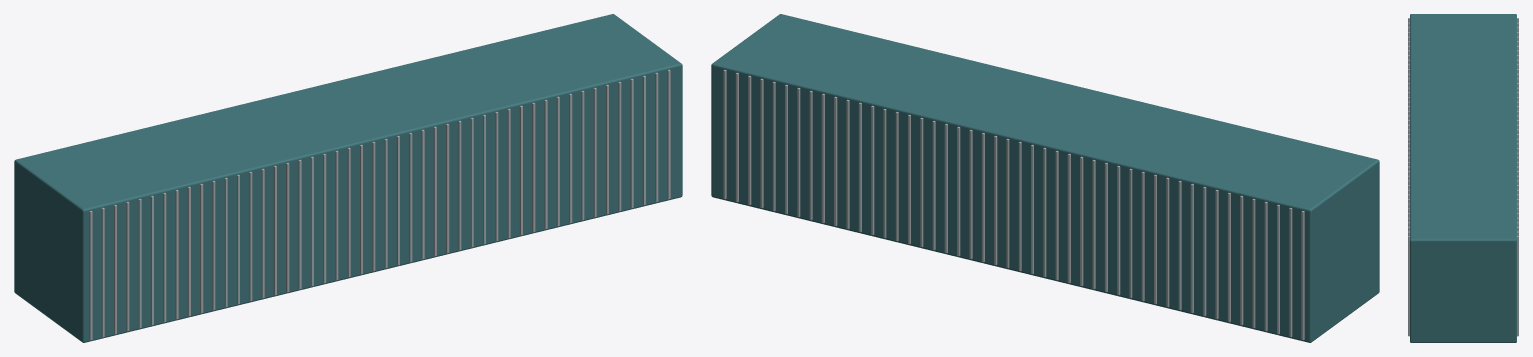
Rendered from SM_Container.fbx.
The picture shows the model from 3 angles, left to right: view 1: azimuth 30°, elevation 25°; view 2: azimuth 150°, elevation 25°; view 3: azimuth 270°, elevation 25°; orthographic projection. The views are drawn at different scales.
Visible parts, largest first — view 1: SM_Container; view 2: SM_Container; view 3: SM_Container.
Boxes of the visible parts, x1,y1,x2,y2 form: SM_Container: (14,14,682,342); SM_Container: (711,14,1379,342); SM_Container: (1408,14,1518,342).
Bounding box in the file's own units: 1220 × 252 × 260.
